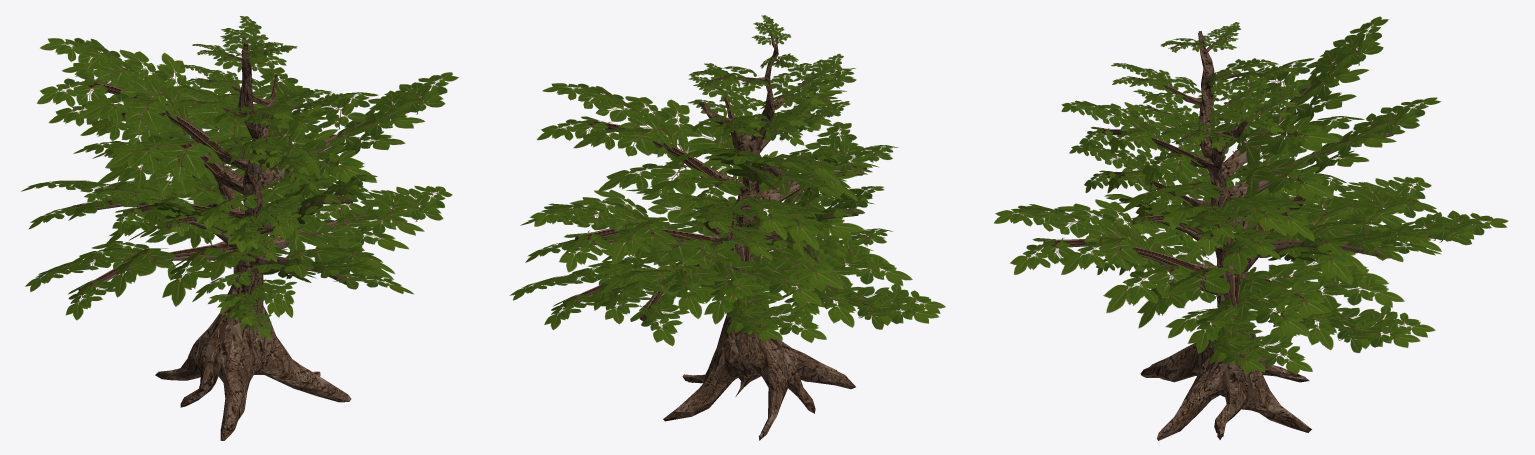
Rendered from tree2.gltf.
3 renders of one model, left to right at view 1: azimuth 30°, elevation 25°; view 2: azimuth 150°, elevation 25°; view 3: azimuth 270°, elevation 25°, orthographic. The views are drawn at different scales.
Parts seen in each view (by area): view 1: pixel_art_large(1).012, Cube, pixel_art_large(1).004, pixel_art_large(1).018, pixel_art_large(1).019, pixel_art_large(1).013, pixel_art_large(1).014, pixel_art_large(1).023, pixel_art_large(1).007, pixel_art_large(1).008, pixel_art_large(1).021, pixel_art_large(1).015 (+13 smaller); view 2: pixel_art_large(1).004, Cube, pixel_art_large(1).001, pixel_art_large(1).021, pixel_art_large(1).015, pixel_art_large(1).018, pixel_art_large(1).013, pixel_art_large(1).012, pixel_art_large(1).020, pixel_art_large(1).014, pixel_art_large(1).007, pixel_art_large(1).002 (+12 smaller); view 3: pixel_art_large(1).019, pixel_art_large(1).014, Cube, pixel_art_large(1).012, pixel_art_large(1).020, pixel_art_large(1).013, pixel_art_large(1).001, pixel_art_large(1).004, pixel_art_large(1).022, pixel_art_large(1).021, pixel_art_large(1).007, pixel_art_large(1).015 (+11 smaller).
Boxes of the visible parts, bbox=[...] form: pixel_art_large(1).012: bbox=[37, 38, 249, 182]; Cube: bbox=[155, 42, 351, 440]; pixel_art_large(1).004: bbox=[257, 72, 458, 189]; pixel_art_large(1).018: bbox=[25, 224, 238, 320]; pixel_art_large(1).019: bbox=[260, 180, 452, 280]; pixel_art_large(1).013: bbox=[48, 63, 255, 196]; pixel_art_large(1).014: bbox=[202, 244, 413, 294]; pixel_art_large(1).023: bbox=[192, 270, 296, 339]; pixel_art_large(1).007: bbox=[198, 193, 301, 262]; pixel_art_large(1).008: bbox=[84, 181, 244, 248]; pixel_art_large(1).021: bbox=[177, 67, 348, 205]; pixel_art_large(1).015: bbox=[21, 180, 243, 246]; pixel_art_large(1).004: bbox=[536, 83, 746, 196]; Cube: bbox=[663, 37, 855, 440]; pixel_art_large(1).001: bbox=[594, 238, 772, 346]; pixel_art_large(1).021: bbox=[529, 188, 725, 293]; pixel_art_large(1).015: bbox=[658, 233, 843, 342]; pixel_art_large(1).018: bbox=[728, 230, 945, 329]; pixel_art_large(1).013: bbox=[643, 177, 825, 260]; pixel_art_large(1).012: bbox=[670, 148, 858, 201]; pixel_art_large(1).020: bbox=[510, 257, 728, 329]; pixel_art_large(1).014: bbox=[691, 122, 864, 257]; pixel_art_large(1).007: bbox=[759, 145, 898, 201]; pixel_art_large(1).002: bbox=[770, 53, 843, 107]; pixel_art_large(1).019: bbox=[1137, 262, 1333, 374]; pixel_art_large(1).014: bbox=[994, 199, 1220, 312]; Cube: bbox=[1140, 31, 1311, 440]; pixel_art_large(1).012: bbox=[1211, 16, 1388, 181]; pixel_art_large(1).020: bbox=[1214, 254, 1435, 352]; pixel_art_large(1).013: bbox=[1227, 97, 1441, 201]; pixel_art_large(1).001: bbox=[1263, 192, 1508, 285]; pixel_art_large(1).004: bbox=[1121, 181, 1314, 259]; pixel_art_large(1).022: bbox=[1061, 100, 1218, 185]; pixel_art_large(1).021: bbox=[1218, 217, 1441, 273]; pixel_art_large(1).007: bbox=[1069, 145, 1212, 216]; pixel_art_large(1).015: bbox=[1234, 173, 1431, 273].
Bounding box in the file's own units: 17.01 × 13.59 × 17.83.
216 materials, 216 textured.
